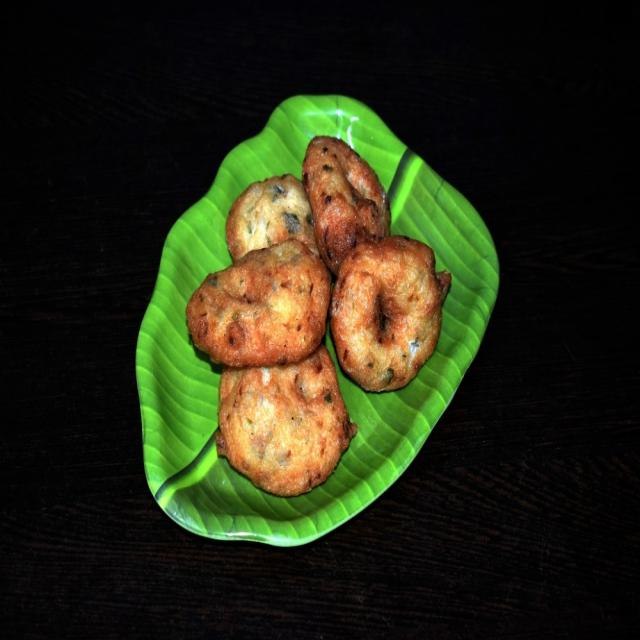medu vadai: (218, 352, 351, 492), (188, 242, 329, 366), (302, 135, 389, 273), (335, 234, 444, 338), (226, 175, 319, 261), (223, 241, 320, 289)
